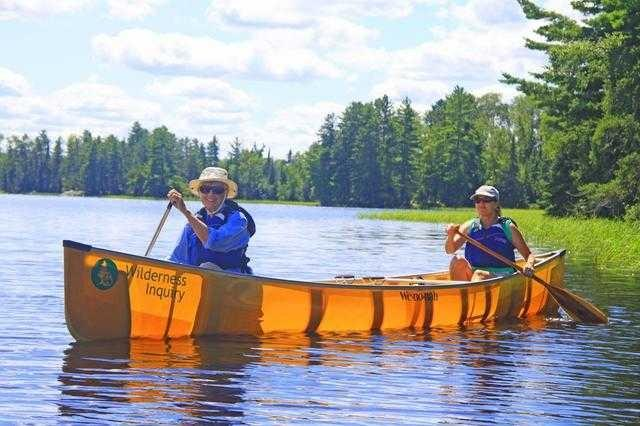kayak: (65, 240, 570, 341)
